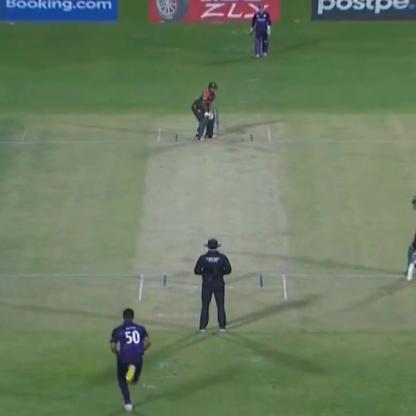bat: (203, 107, 222, 128)
pitch: (129, 118, 310, 330)
